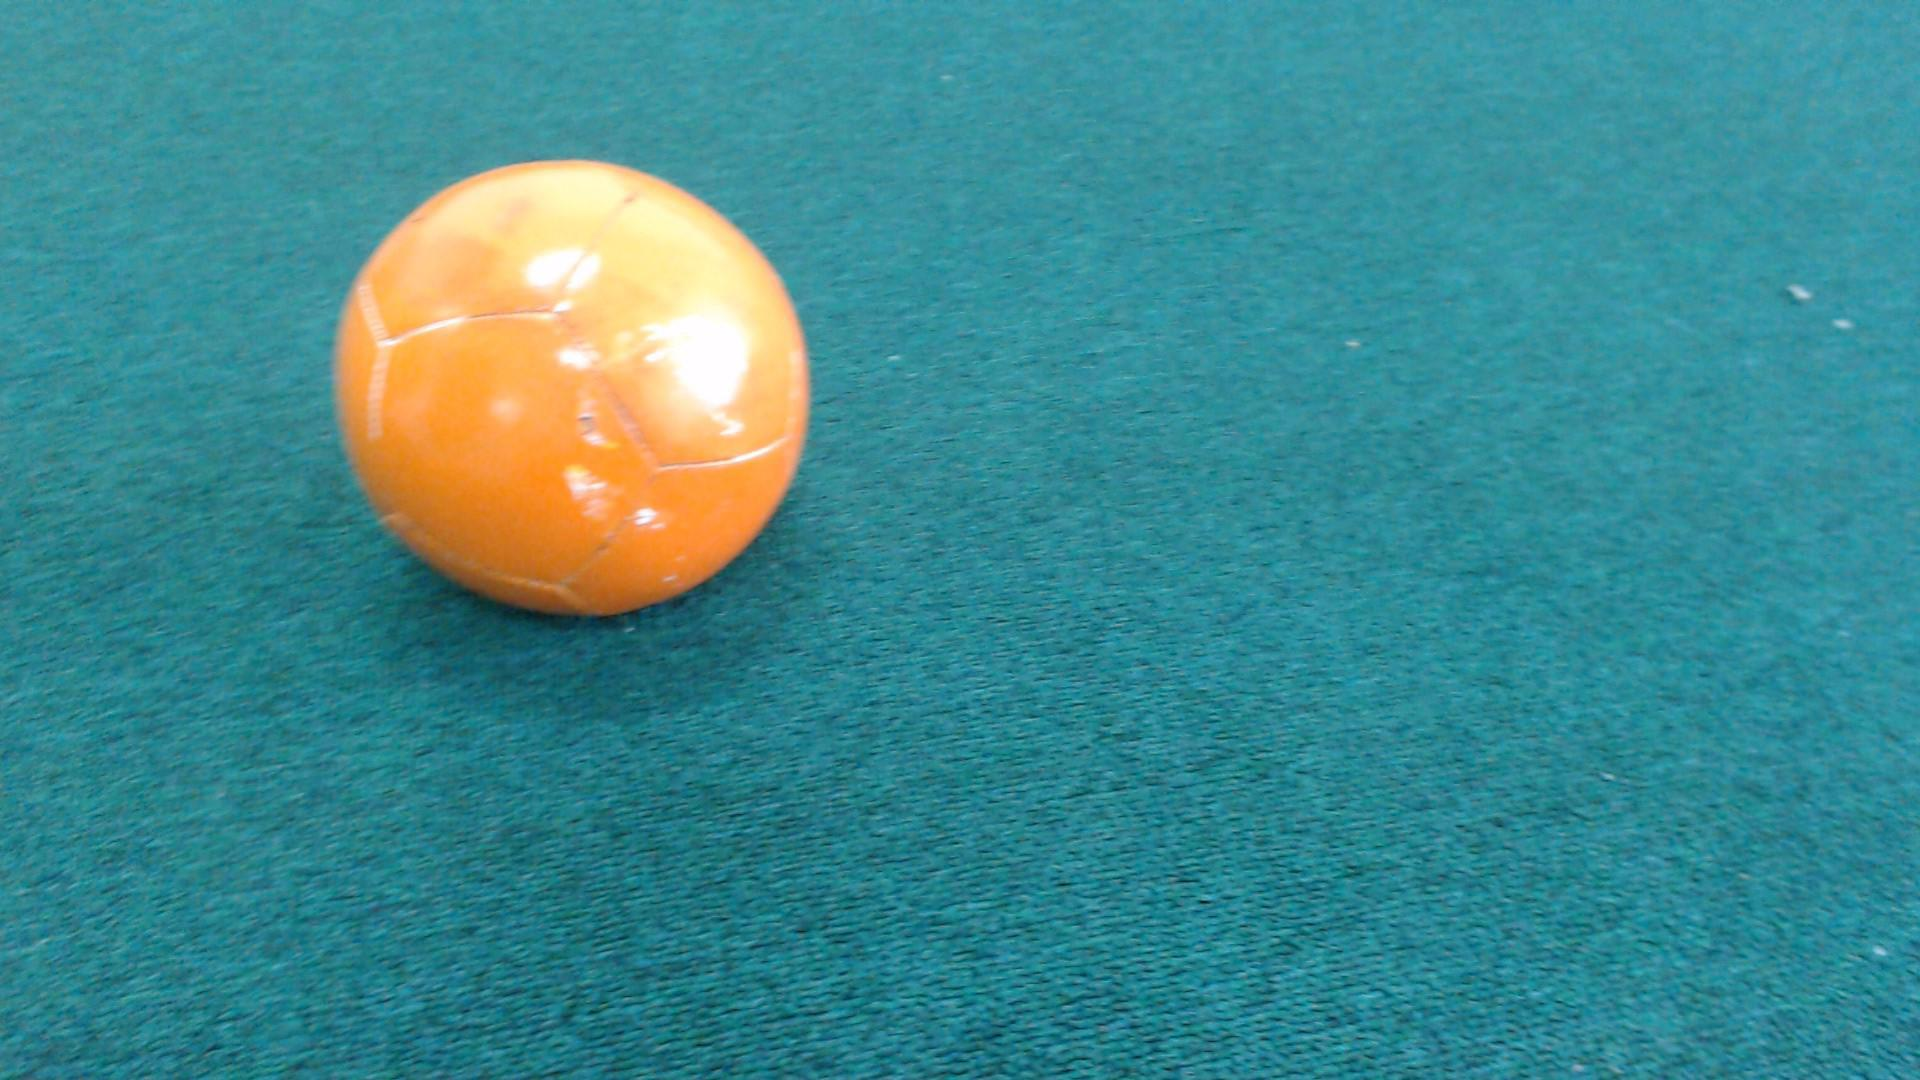bola: (314, 156, 825, 644)
